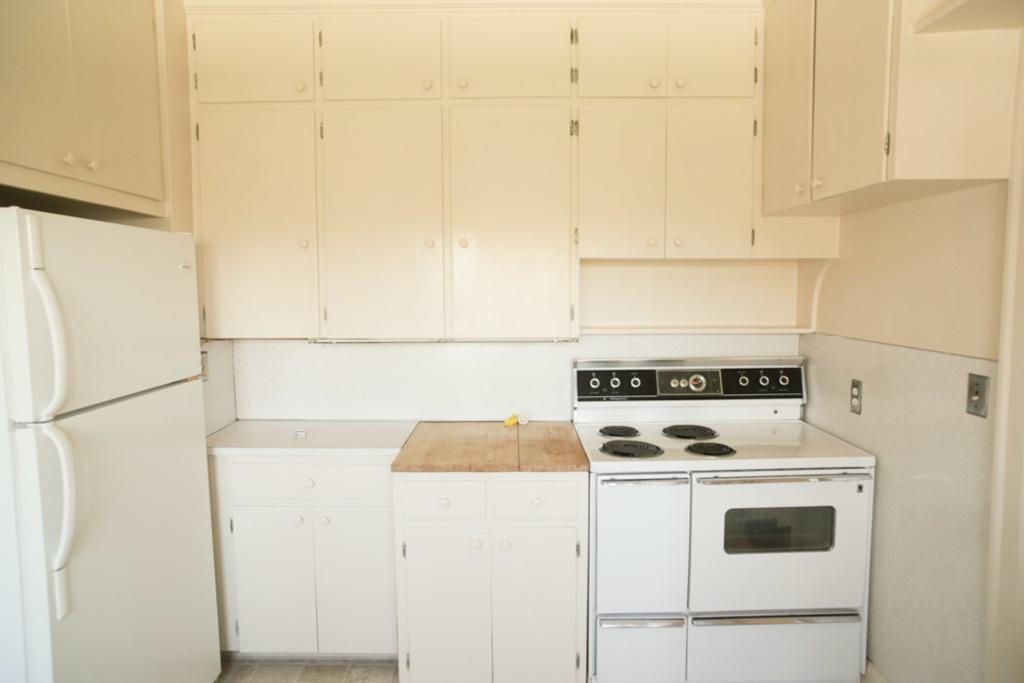cabinet_door: (1, 3, 164, 192), (316, 116, 442, 338), (456, 112, 574, 338), (193, 113, 315, 327), (671, 112, 756, 260), (400, 540, 486, 680), (498, 540, 582, 683), (228, 508, 310, 652), (589, 109, 664, 255), (449, 11, 576, 94), (824, 8, 886, 172), (318, 14, 438, 98), (322, 508, 392, 646), (764, 9, 810, 194), (193, 32, 313, 102), (666, 22, 762, 91), (585, 20, 664, 101), (230, 460, 384, 496)
handle: (23, 235, 77, 411), (36, 422, 82, 602), (694, 470, 868, 486), (692, 616, 861, 632), (592, 610, 685, 638), (601, 478, 689, 494), (49, 145, 79, 172), (452, 233, 477, 259), (668, 232, 689, 258), (808, 170, 827, 192), (422, 237, 440, 259), (292, 73, 310, 94), (76, 164, 102, 178), (295, 236, 316, 253), (458, 73, 472, 97), (646, 79, 664, 95), (672, 75, 690, 90), (646, 236, 660, 252), (792, 180, 804, 196), (424, 80, 438, 93)
